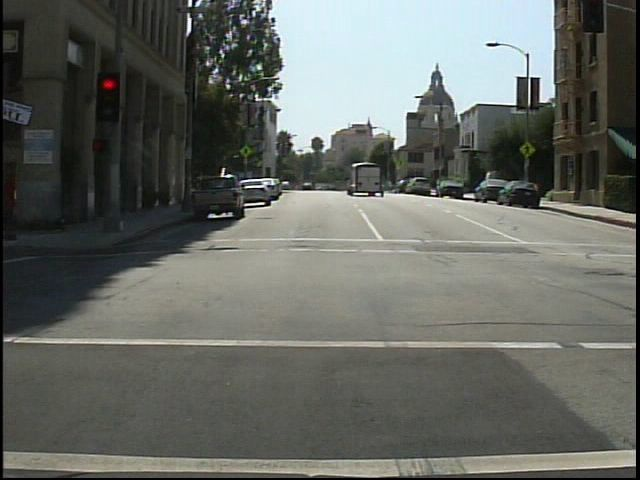person: (5, 156, 33, 239)
